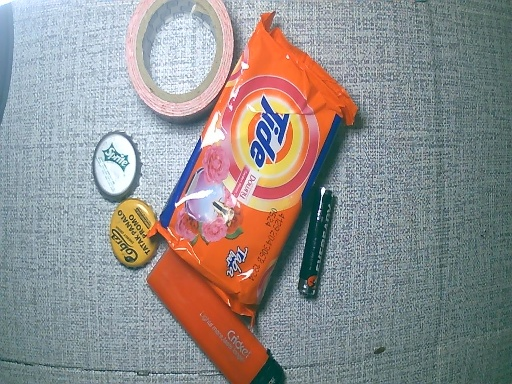metal: (298, 188, 335, 296), (105, 199, 158, 272), (88, 133, 139, 202)
plastic: (152, 22, 366, 288), (152, 250, 285, 384)
trash: (125, 2, 235, 122)
